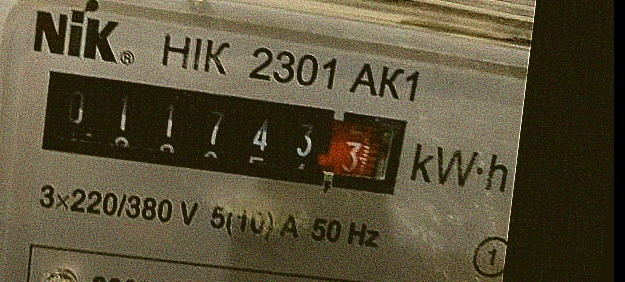0: (62, 86, 89, 127), (112, 91, 134, 134)
1: (158, 97, 179, 140)
3: (292, 117, 317, 162), (338, 135, 363, 175)
4: (247, 111, 272, 153)
7: (201, 103, 229, 149)
screen: (19, 54, 417, 207)
